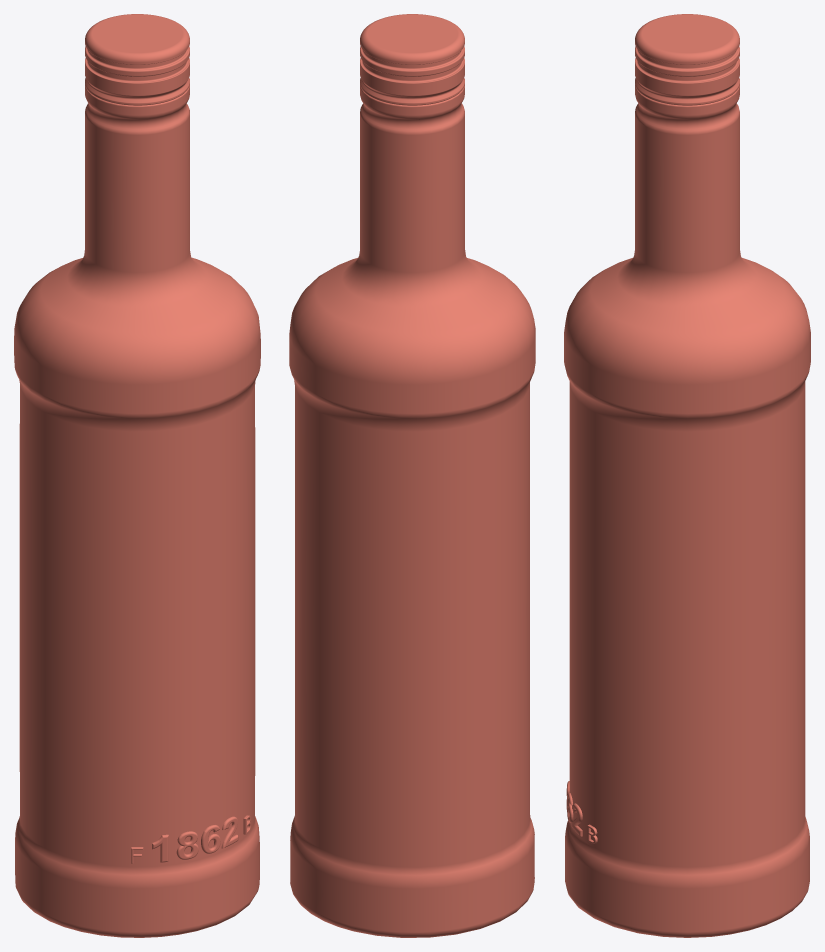
The model's file is Bacardi.glb.
The picture shows the model from 3 angles, left to right: view 1: azimuth 30°, elevation 25°; view 2: azimuth 150°, elevation 25°; view 3: azimuth 270°, elevation 25°; orthographic projection.
Parts seen in each view (by area): view 1: Body1, Body2; view 2: Body1, Body2; view 3: Body1, Body2.
Boxes of the visible parts, <box> form: Body1: <box>14,85,260,937</box>; Body2: <box>85,14,189,105</box>; Body1: <box>289,85,535,937</box>; Body2: <box>360,14,464,105</box>; Body1: <box>564,85,810,937</box>; Body2: <box>635,14,739,105</box>.
Bounding box in the file's own units: 0.085 × 0.3254 × 0.085.
